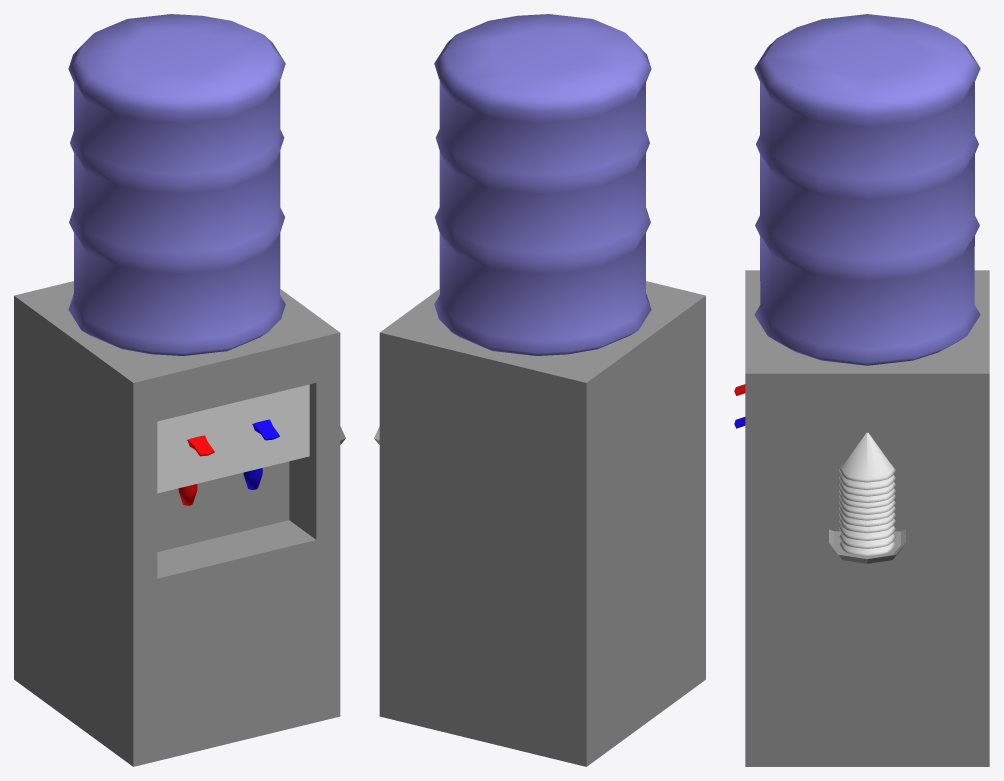
File: DrinkingFountain2.fbx
3 renders of one model, left to right at view 1: azimuth 30°, elevation 25°; view 2: azimuth 150°, elevation 25°; view 3: azimuth 270°, elevation 25°, orthographic. The views are drawn at different scales.
Parts seen in each view (by area): view 1: Cube; view 2: Cube; view 3: Cube.
Part boxes in pixels (x1,y1,x2,y2): Cube: (14,14,345,766); Cube: (374,14,705,766); Cube: (734,14,989,766).
Size of the model in its own units: 145 by 338 by 118.
